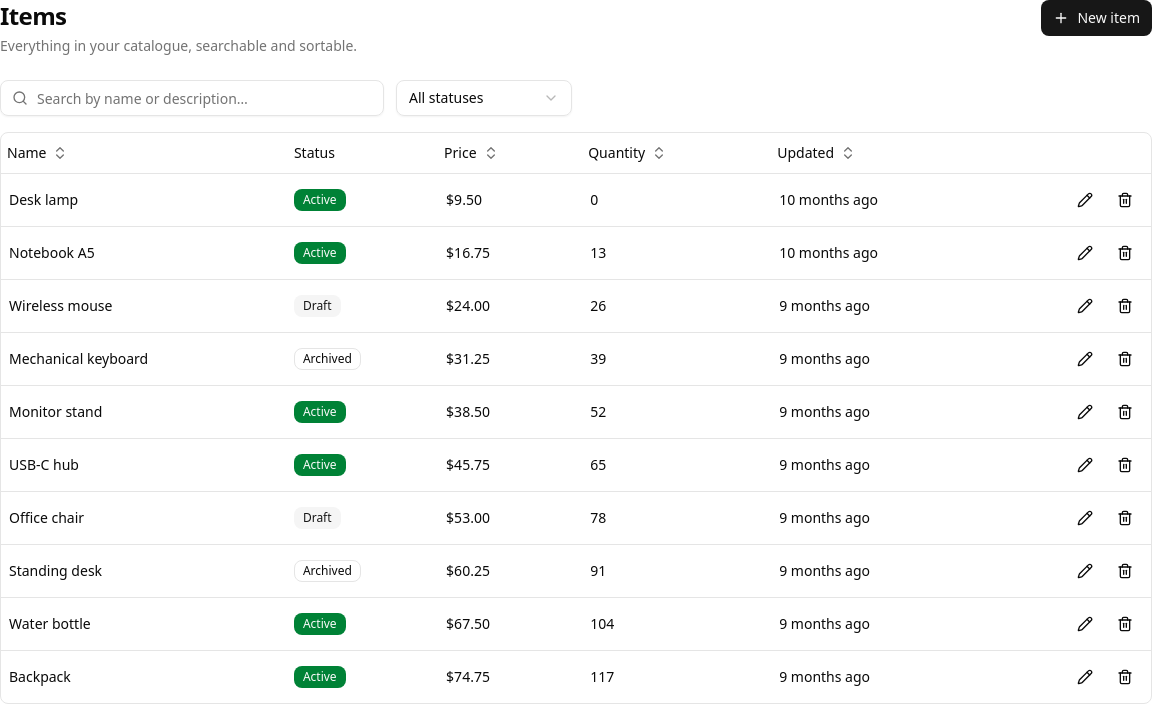
Test case: ItemsListPage focus after a delete (WCAG 2.4.3) › moves focus to the next row's link
What coordinates should you click on to do the following:
click the button named "Delete Desk lamp"
I would click on:
 (1125, 200)
Its box is top-left (1107, 182), bottom-right (1143, 218).
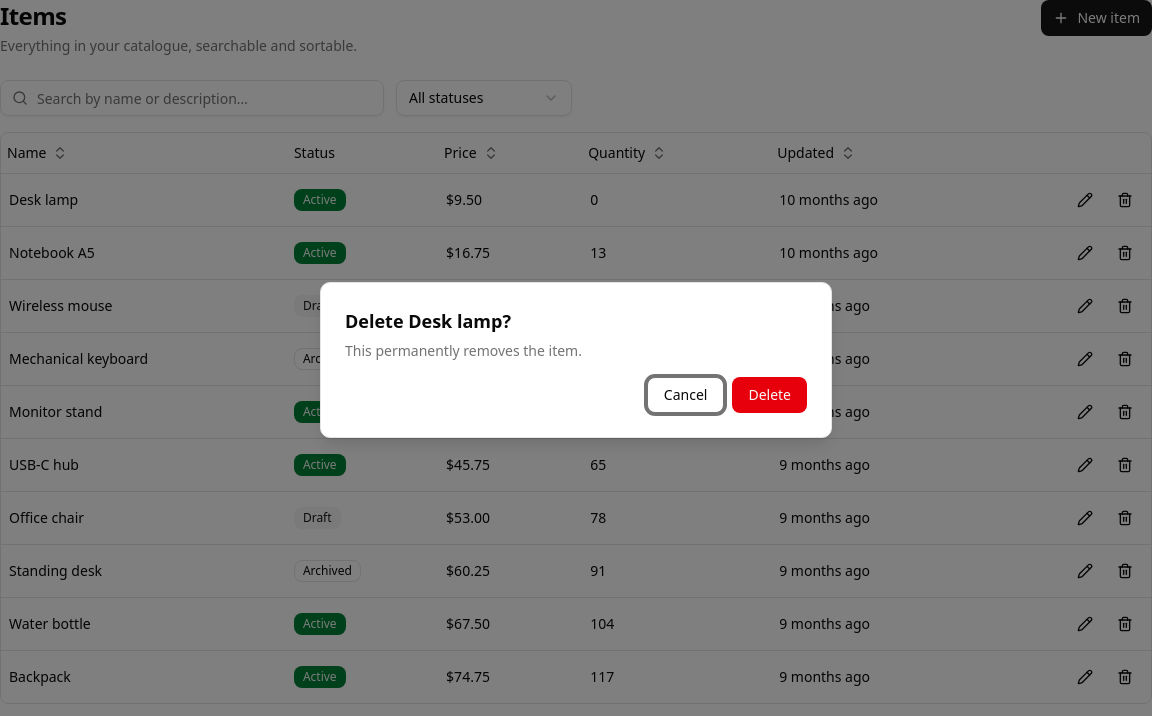
What coordinates should you click on to do the following:
click the button "Delete"
I would click on:
 (770, 395)
Its box is top-left (732, 377), bottom-right (807, 413).
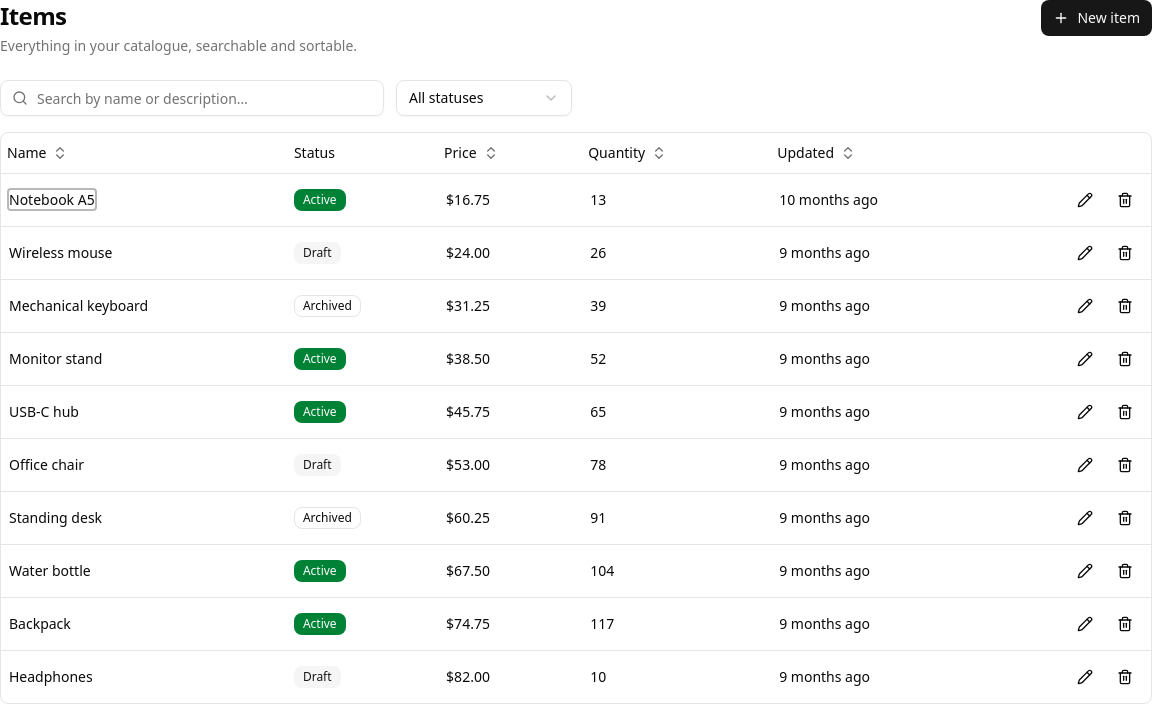
Check: the link "Desk lamp" is gone
